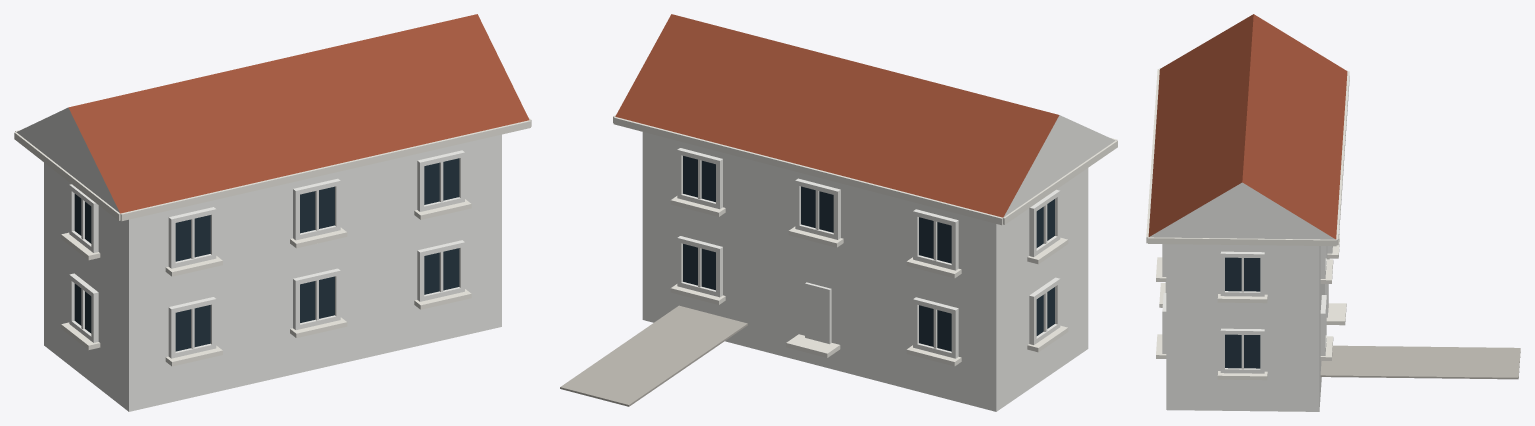
3 views of the same model, side by side, from view 1: azimuth 30°, elevation 25°; view 2: azimuth 150°, elevation 25°; view 3: azimuth 270°, elevation 25° (orthographic). The views are drawn at different scales.
Visible parts, largest first — view 1: b8605; view 2: b8605; view 3: b8605.
Part boxes in pixels (x1,y1,x2,y2): b8605: (14,14,531,411); b8605: (560,14,1117,411); b8605: (1146,14,1520,411).
Bounding box in the file's own units: 5755 × 3680 × 5289.
